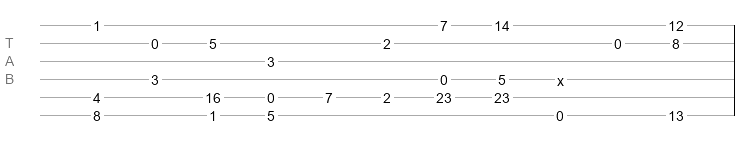0: (151, 36, 159, 46), (267, 90, 275, 100), (440, 72, 448, 82), (556, 108, 564, 118), (614, 36, 622, 46)
1: (93, 18, 101, 28), (209, 108, 217, 118)
12: (668, 18, 684, 28)
13: (668, 108, 684, 118)
14: (494, 18, 510, 28)
16: (205, 90, 221, 100)
2: (383, 36, 391, 46), (383, 90, 391, 100)
23: (436, 90, 452, 100), (494, 90, 510, 100)
3: (151, 72, 159, 82), (267, 54, 275, 64)
4: (93, 90, 101, 100)
5: (209, 36, 217, 46), (267, 108, 275, 118), (498, 72, 506, 82)
7: (325, 90, 333, 100), (440, 18, 448, 28)
8: (93, 108, 101, 118), (672, 36, 680, 46)
x: (557, 73, 564, 81)
